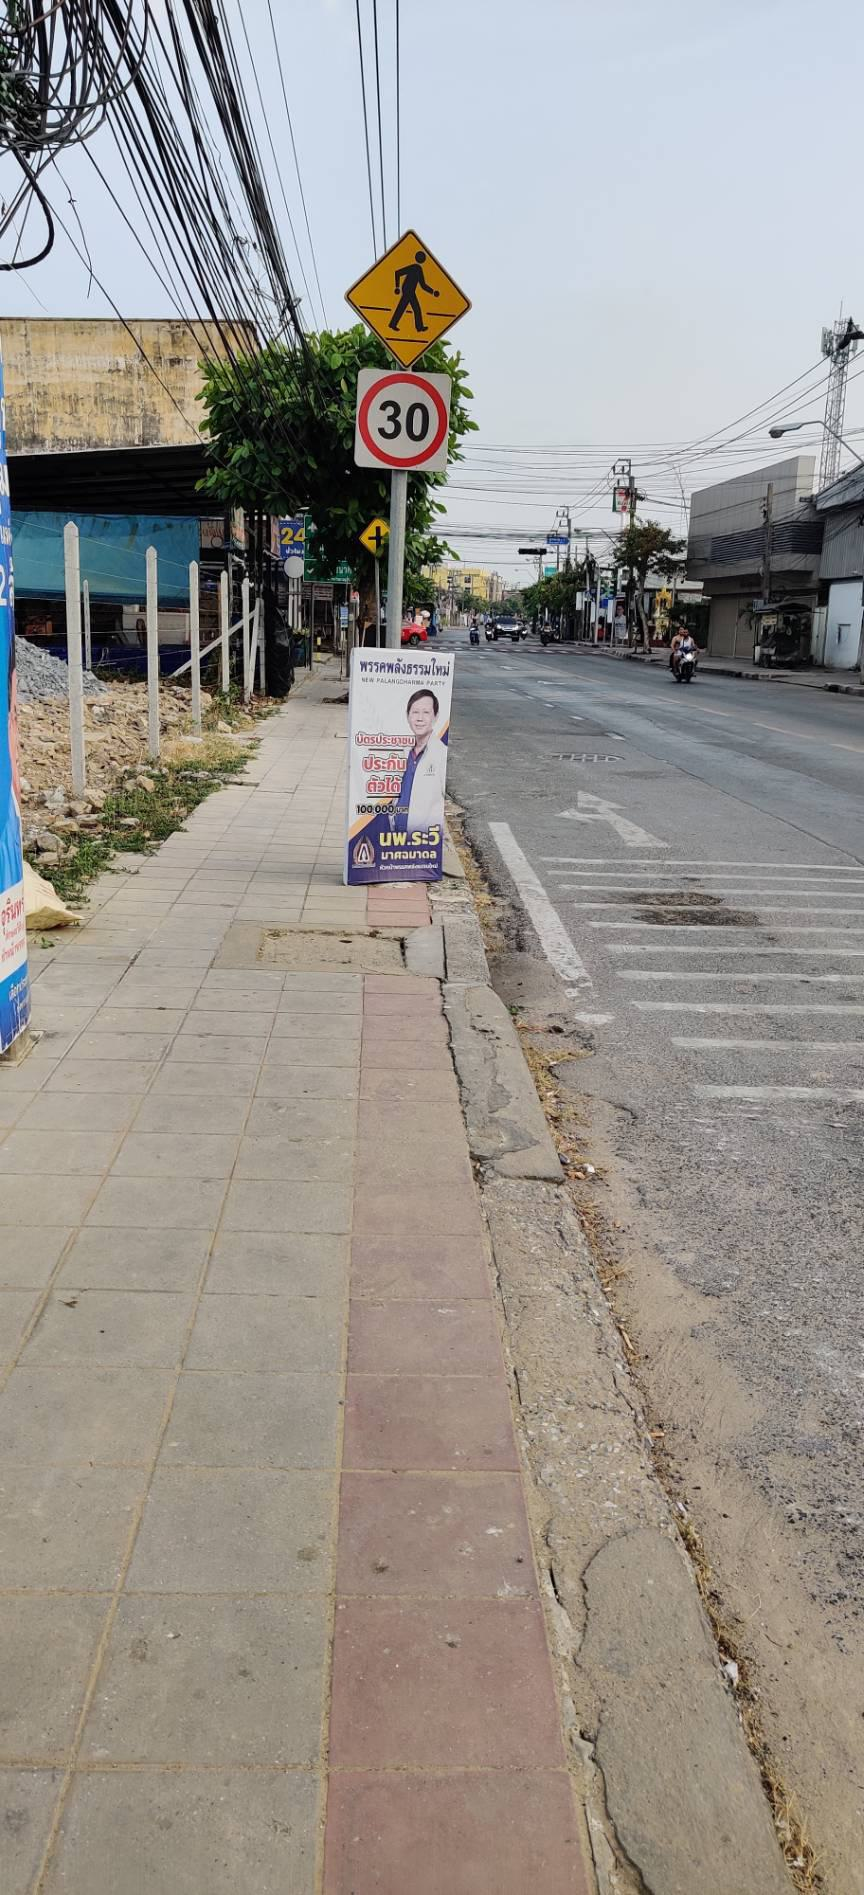Banner: (331, 644, 465, 912)
